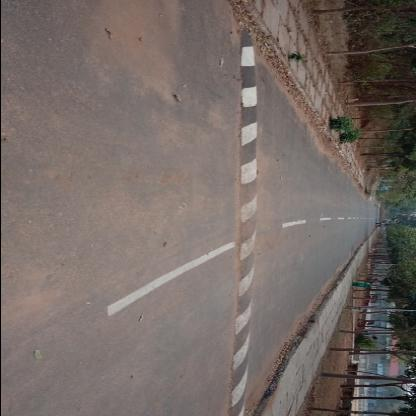speed-bumps: (220, 34, 270, 416)
